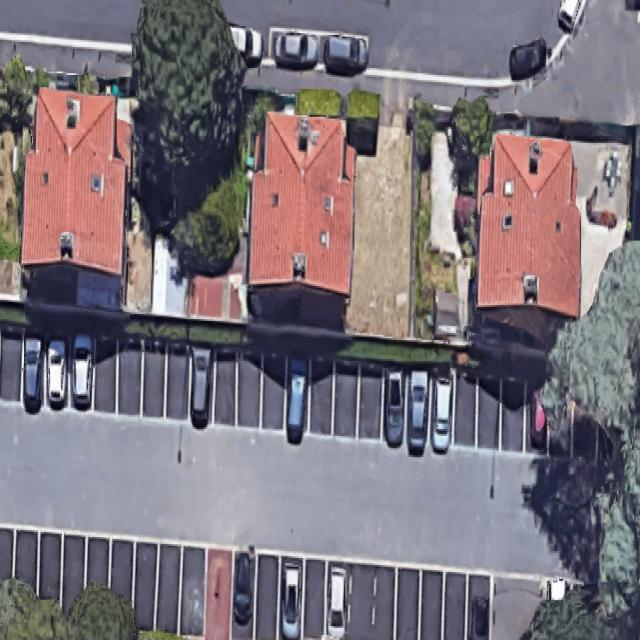maison: (16, 88, 136, 312), (245, 111, 357, 328), (475, 134, 582, 314)
